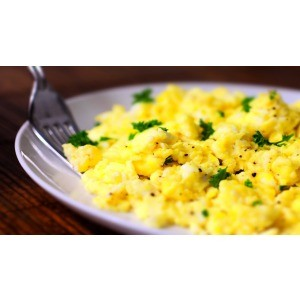egg_brain food: (112, 96, 280, 219)
